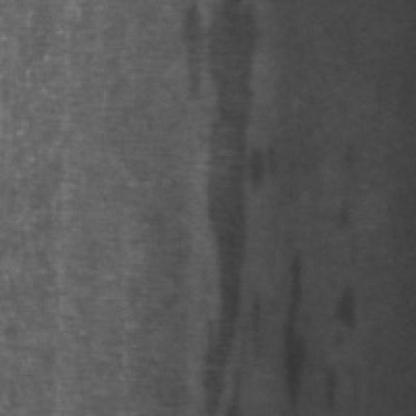inclusion: (164, 0, 264, 410), (268, 237, 320, 401), (326, 279, 360, 339)
